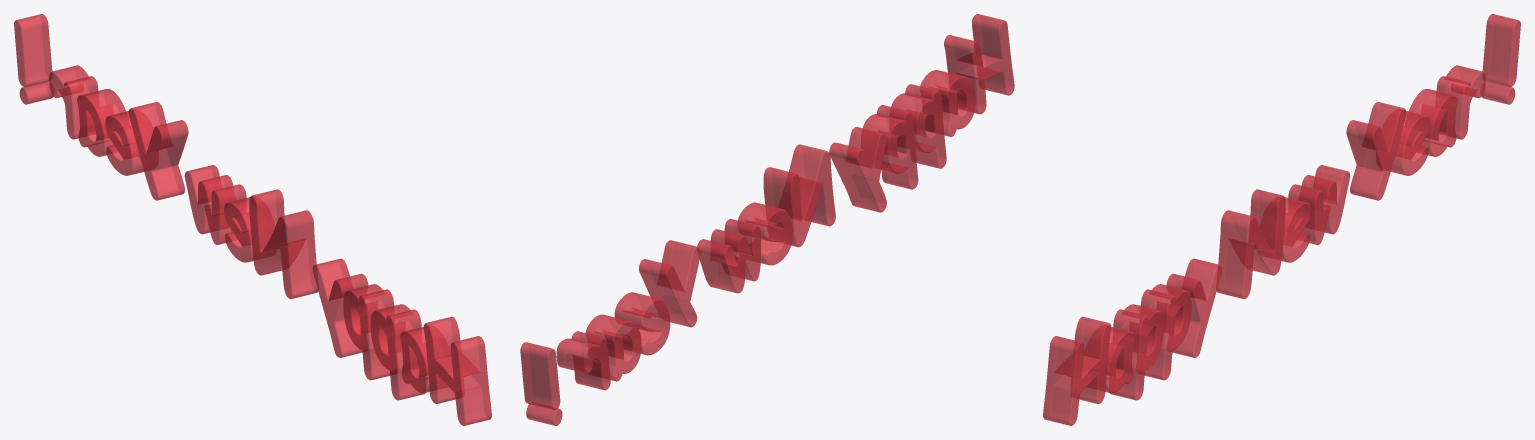
File: happynewyear.glb
3 views of the same model, side by side, from view 1: azimuth 30°, elevation 25°; view 2: azimuth 150°, elevation 25°; view 3: azimuth 330°, elevation 25° (orthographic). The views are drawn at different scales.
Parts seen in each view (by area): view 1: 文本; view 2: 文本; view 3: 文本.
Boxes of the visible parts, x1,y1,x2,y2 form: 文本: (14, 14, 491, 425); 文本: (520, 14, 1014, 425); 文本: (1043, 14, 1520, 425).
Size of the model in its own units: 0.22 by 0.7803 by 6.26.
